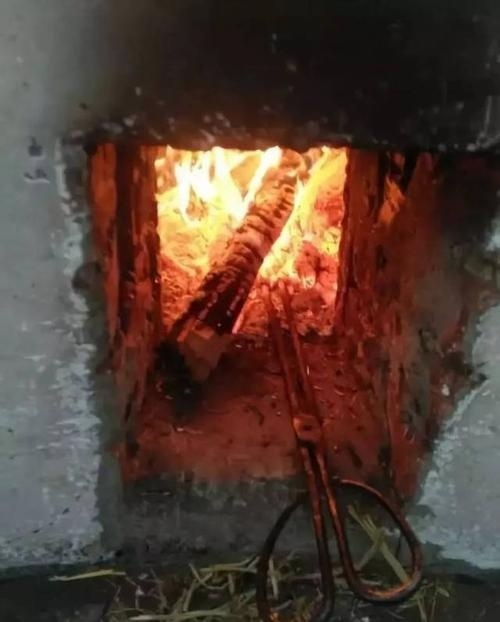fire: (157, 140, 348, 280)
